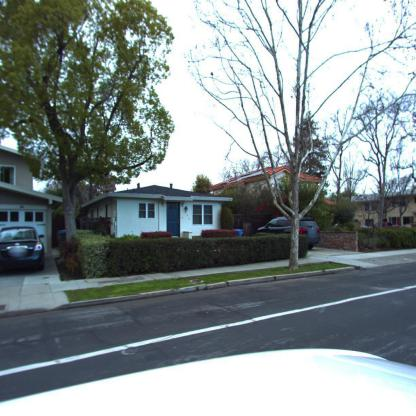car: (2, 226, 46, 274), (262, 217, 321, 247)
